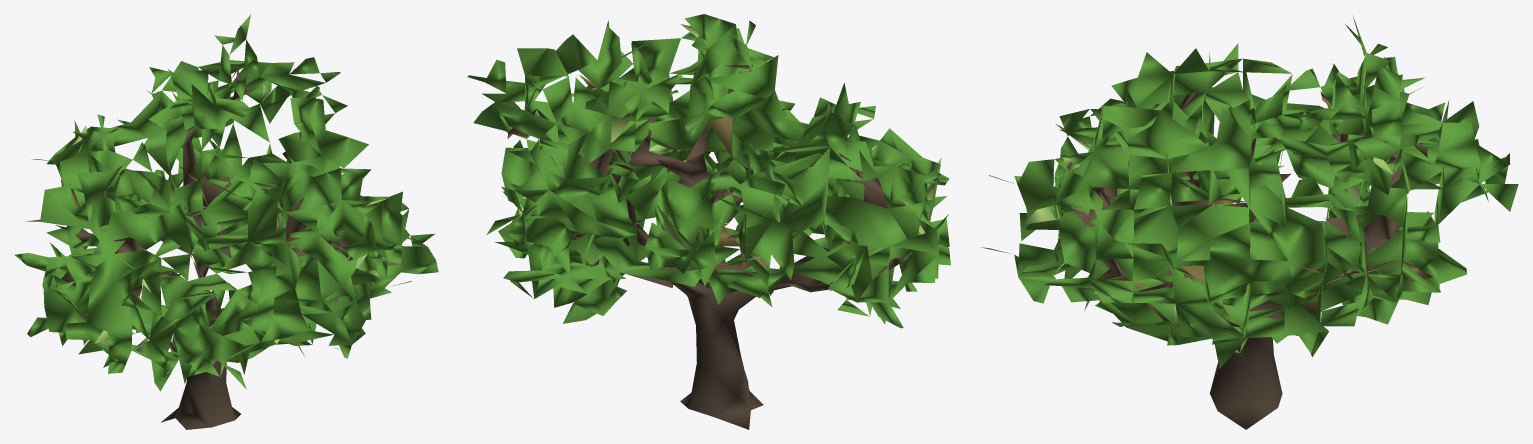
The picture shows the model from 3 angles, left to right: view 1: azimuth 30°, elevation 25°; view 2: azimuth 150°, elevation 25°; view 3: azimuth 270°, elevation 25°; orthographic projection. The views are drawn at different scales.
Visible parts, largest first — view 1: body; view 2: body; view 3: body.
Boxes of the visible parts, bbox=[...] form: body: bbox=[14, 14, 438, 429]; body: bbox=[467, 14, 950, 429]; body: bbox=[981, 16, 1518, 429].
Bounding box in the file's own units: 8.84 × 7.85 × 9.66.
Materials: 1 (1 with a texture image).
